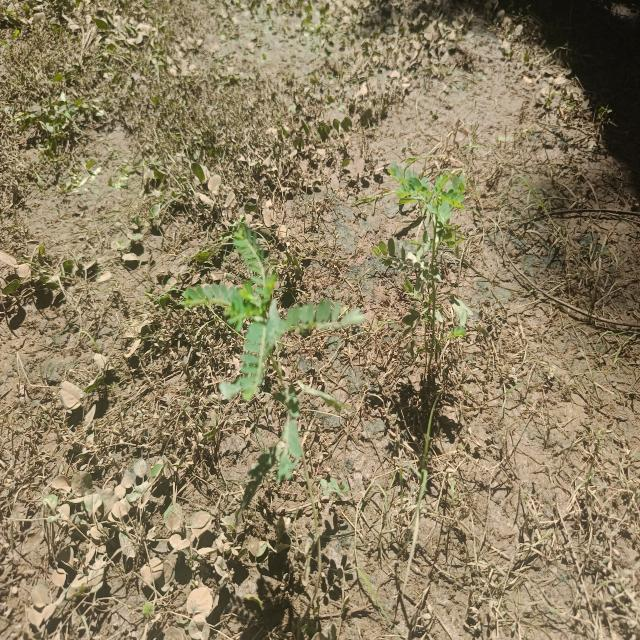weed: (170, 227, 348, 390), (369, 166, 473, 393), (235, 416, 313, 503)
